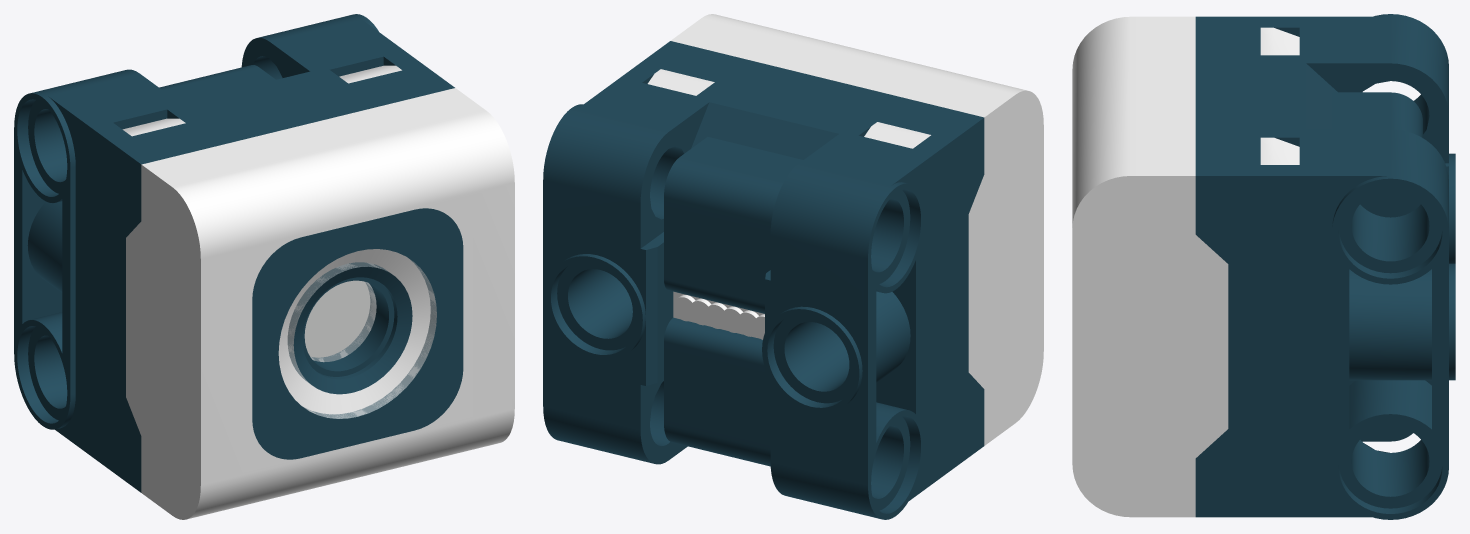
Rendered from color-sensor.glb.
3 views of the same model, side by side, from view 1: azimuth 30°, elevation 25°; view 2: azimuth 150°, elevation 25°; view 3: azimuth 270°, elevation 25° (orthographic). The views are drawn at different scales.
Visible parts, largest first — view 1: Base, sym_1, sym_12, sym_85; view 2: Base, sym_1, sym_1000; view 3: Base, sym_1.
Part boxes in pixels (x1,y1,x2,y2): Base: (14,14,463,492); sym_1: (122,65,514,519); sym_12: (278,249,436,418); sym_85: (305,281,369,357); Base: (543,41,984,519); sym_1: (647,14,1043,445); sym_1000: (673,291,764,339); Base: (1195,14,1455,519); sym_1: (1072,16,1299,517).
Size of the model in its own units: 59.75 by 57.75 by 58.75.
